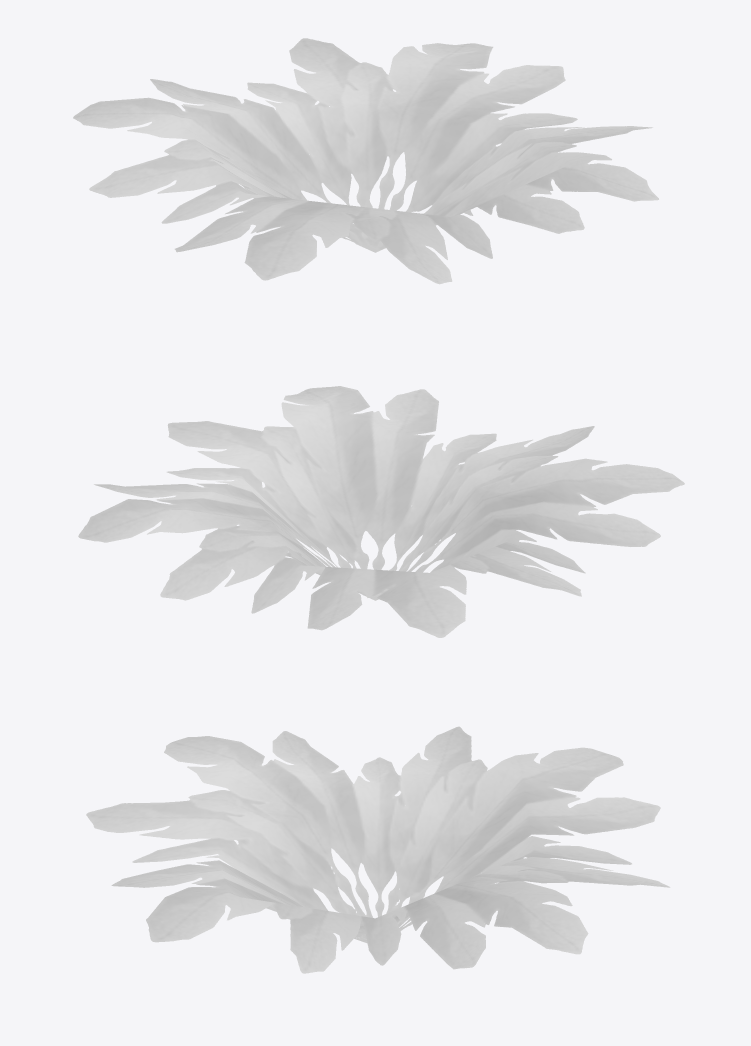
File: Grass_1.fbx
3 renders of one model, top to bottom at view 1: azimuth 30°, elevation 25°; view 2: azimuth 150°, elevation 25°; view 3: azimuth 270°, elevation 25°, orthographic. The views are drawn at different scales.
Visible parts, largest first — view 1: Grass_1; view 2: Grass_1; view 3: Grass_1.
Boxes of the visible parts, x1,y1,x2,y2 form: Grass_1: (73,38,658,284); Grass_1: (78,386,684,637); Grass_1: (86,726,670,973).
Size of the model in its own units: 1.48 by 0.2576 by 1.49.
